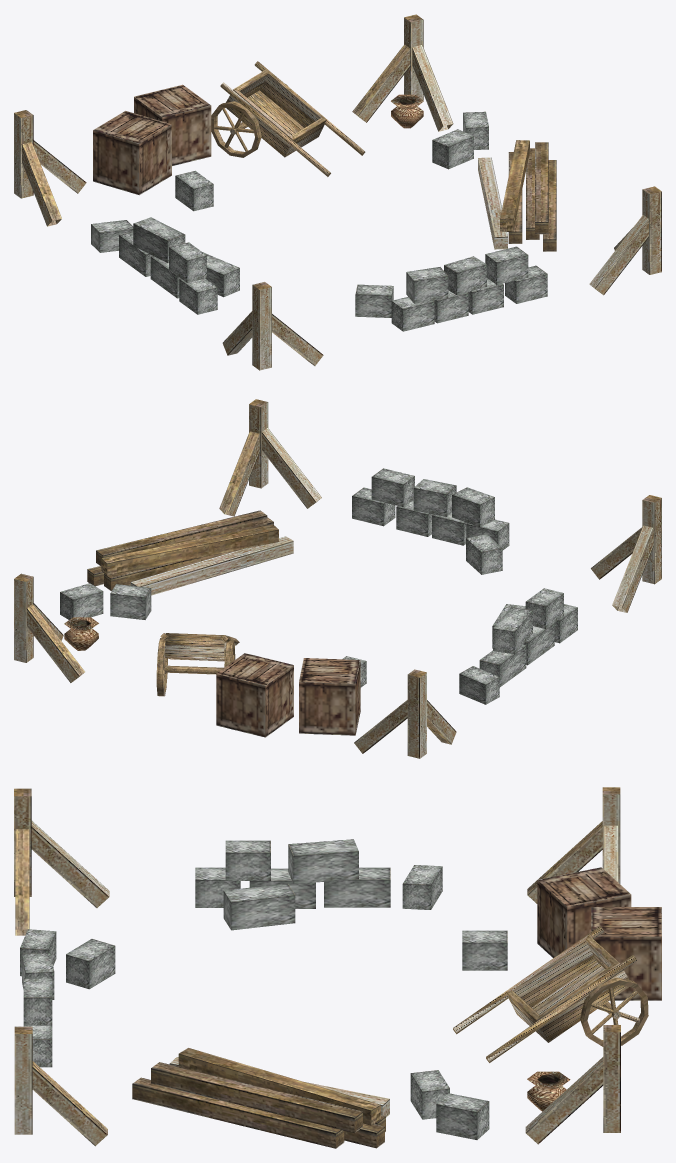
Rendered from found_4x4_a.dae.
The picture shows the model from 3 angles, top to bottom: view 1: azimuth 30°, elevation 25°; view 2: azimuth 150°, elevation 25°; view 3: azimuth 270°, elevation 25°; orthographic projection. The views are drawn at different scales.
Visible parts, largest first — view 1: objhand_cart_final02-Pivot; view 2: objhand_cart_final02-Pivot; view 3: objhand_cart_final02-Pivot.
Boxes of the visible parts, x1,y1,x2,y2 form: objhand_cart_final02-Pivot: (14,14,661,370); objhand_cart_final02-Pivot: (14,399,661,758); objhand_cart_final02-Pivot: (14,787,661,1148).
Bounding box in the file's own units: 15.31 × 16.06 × 3.08.
